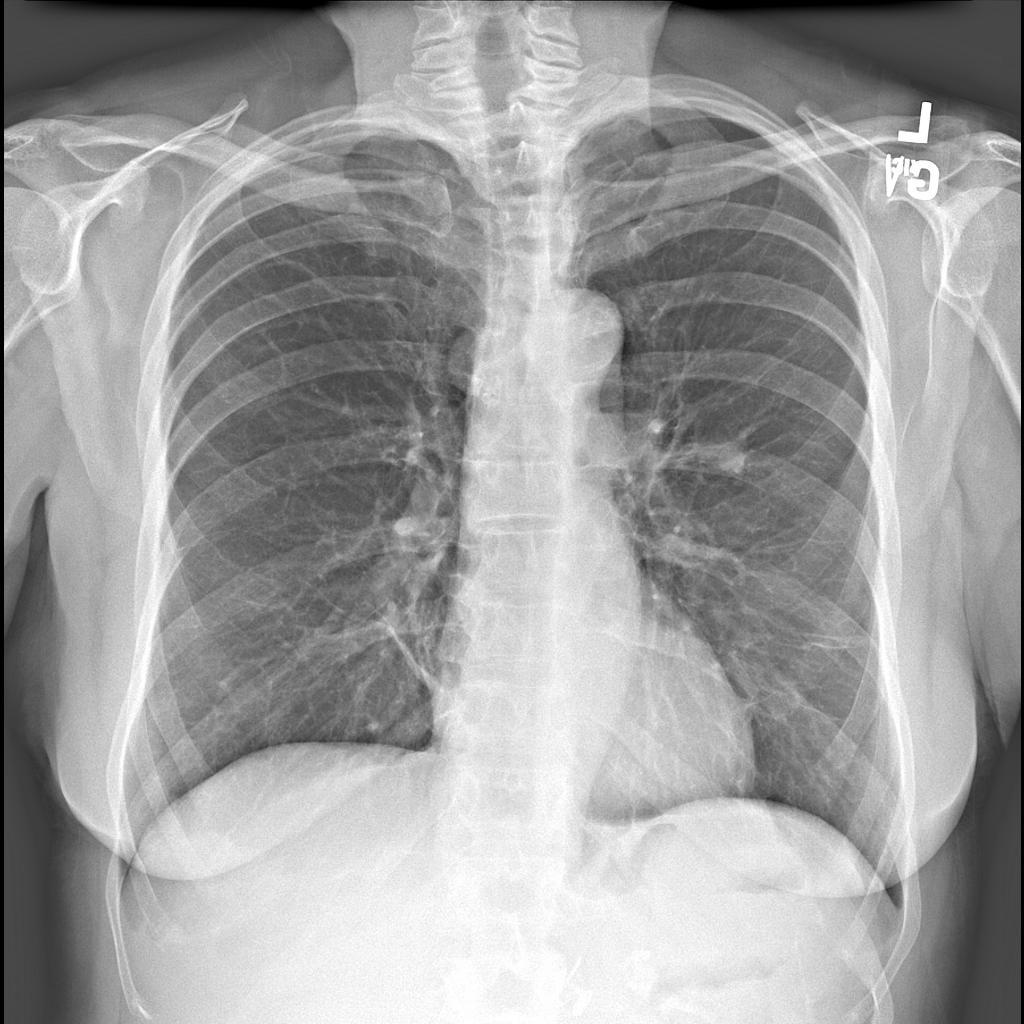Nodule: (714, 446, 753, 486)
